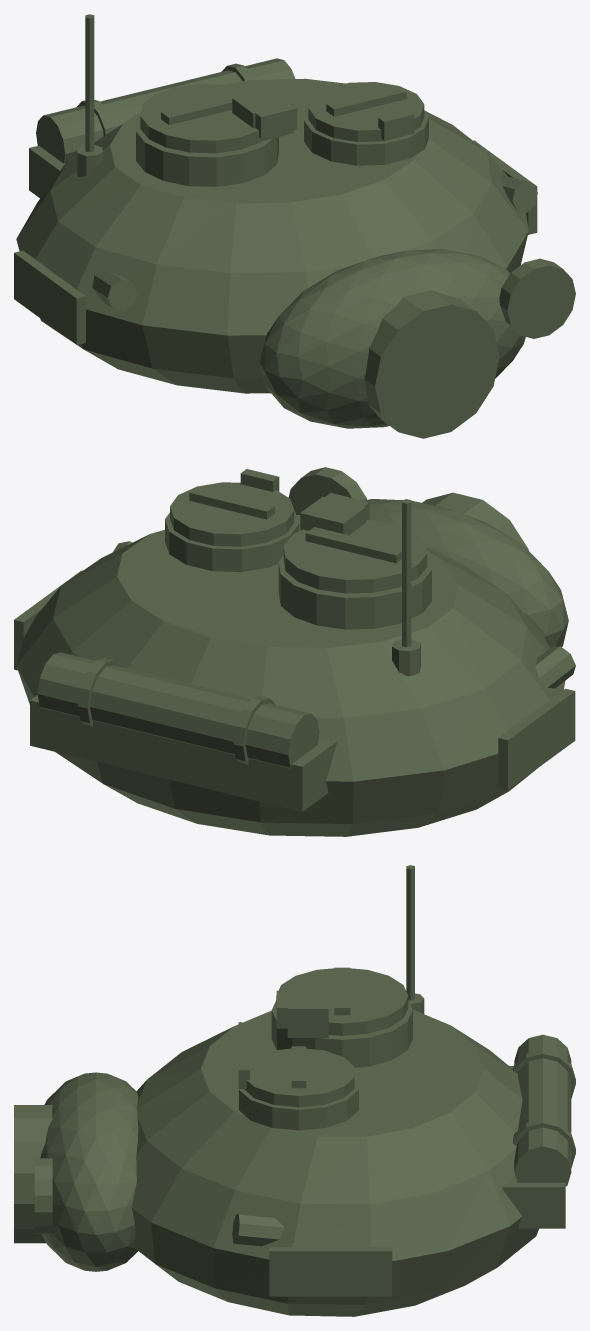
Rendered from light_tank_turret.obj.
The picture shows the model from 3 angles, top to bottom: view 1: azimuth 30°, elevation 25°; view 2: azimuth 150°, elevation 25°; view 3: azimuth 270°, elevation 25°; orthographic projection. The views are drawn at different scales.
Visible parts, largest first — view 1: light_tank_turret; view 2: light_tank_turret; view 3: light_tank_turret.
Boxes of the visible parts, bbox=[...] form: light_tank_turret: bbox=[14, 14, 575, 438]; light_tank_turret: bbox=[14, 467, 575, 836]; light_tank_turret: bbox=[14, 865, 575, 1316].
Bounding box in the file's own units: 1.83 × 1.22 × 1.97.
